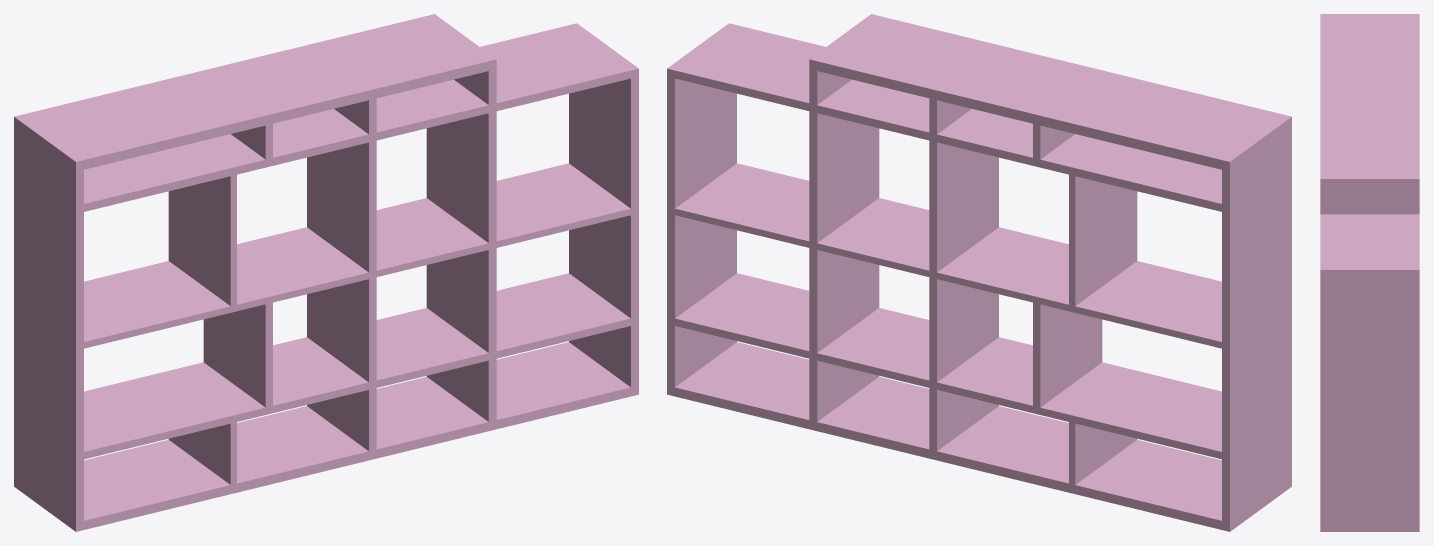
The model's file is book-shelve.glb.
3 renders of one model, left to right at view 1: azimuth 30°, elevation 25°; view 2: azimuth 150°, elevation 25°; view 3: azimuth 270°, elevation 25°, orthographic. The views are drawn at different scales.
Parts seen in each view (by area): view 1: Plane; view 2: Plane; view 3: Plane.
Part boxes in pixels (x1,y1,x2,y2): Plane: [14, 14, 638, 531]; Plane: [667, 14, 1291, 531]; Plane: [1320, 14, 1419, 531].
Size of the model in its own units: 15.92 by 10 by 3.04.
